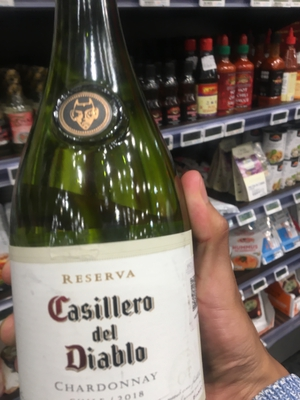casillero del diablo chardonnay: (12, 16, 204, 400)
